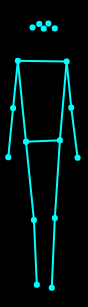mountain: (2, 18, 83, 294)
